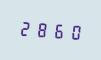eight: (34, 18, 49, 39)
six: (50, 20, 65, 41)
two: (18, 17, 33, 38)
zero: (66, 21, 81, 42)
